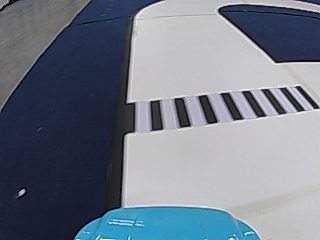CrossWalk: (127, 84, 306, 134)
